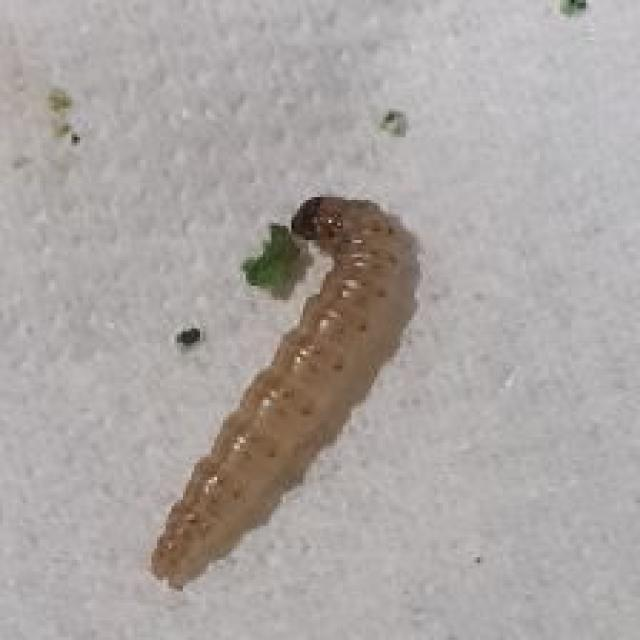white mucus: (126, 186, 455, 583)
